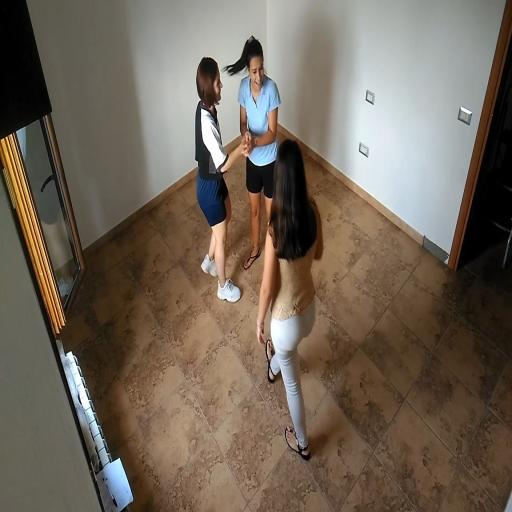nao-violencia: (179, 30, 286, 306)
